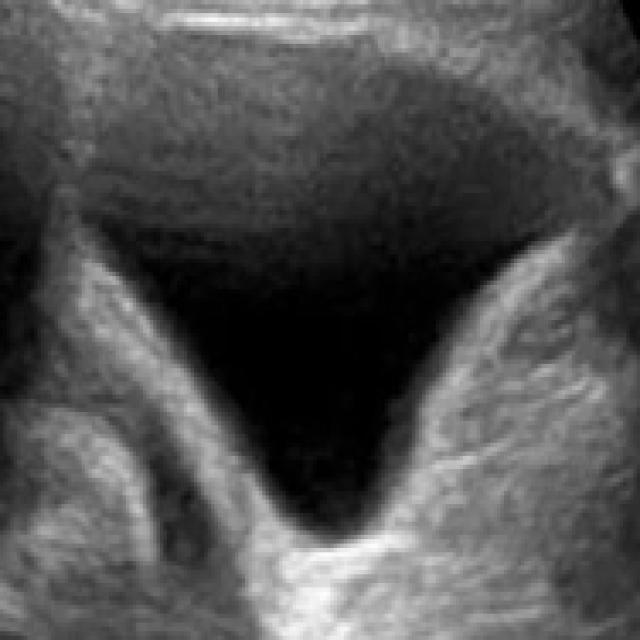bladder: (46, 10, 622, 614)
